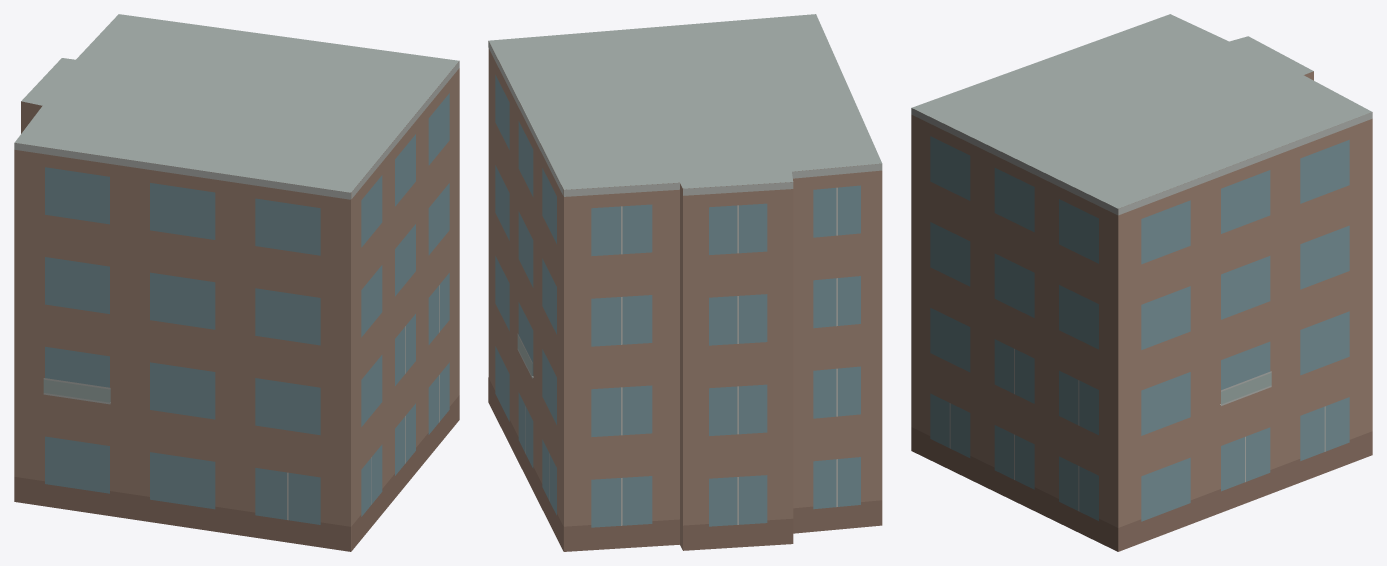
Rendered from survey-upis-33018610.glb.
The picture shows the model from 3 angles, left to right: view 1: azimuth 30°, elevation 25°; view 2: azimuth 150°, elevation 25°; view 3: azimuth 270°, elevation 25°; orthographic projection. The views are drawn at different scales.
Visible parts, largest first — view 1: survey-upis-33018610.tmp; view 2: survey-upis-33018610.tmp; view 3: survey-upis-33018610.tmp.
Part boxes in pixels (x1=…): survey-upis-33018610.tmp: x1=14, y1=14, x2=459, y2=551; survey-upis-33018610.tmp: x1=488, y1=14, x2=882, y2=551; survey-upis-33018610.tmp: x1=911, y1=14, x2=1372, y2=551.
Size of the model in its own units: 15.23 by 12.5 by 15.23.
